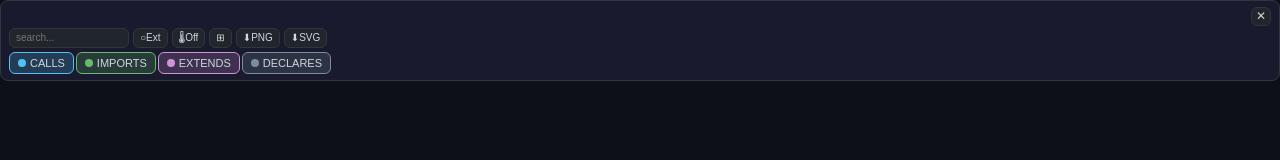
Test: ControlPanel › toggles collapsed state
This screenshot has width=1280, height=160.
Click the button named "Collapse panel": (1261,16) [1251,7,1271,26]
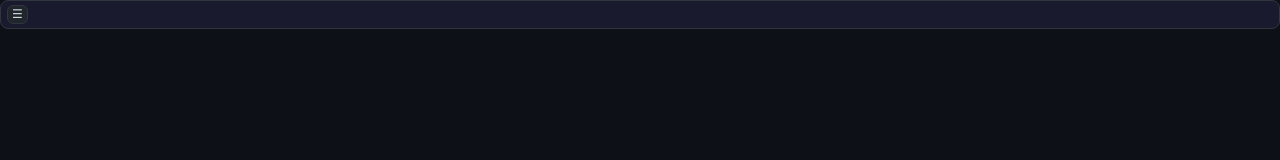
Result: the button named "Expand panel" is shown at [7,5,28,24]
